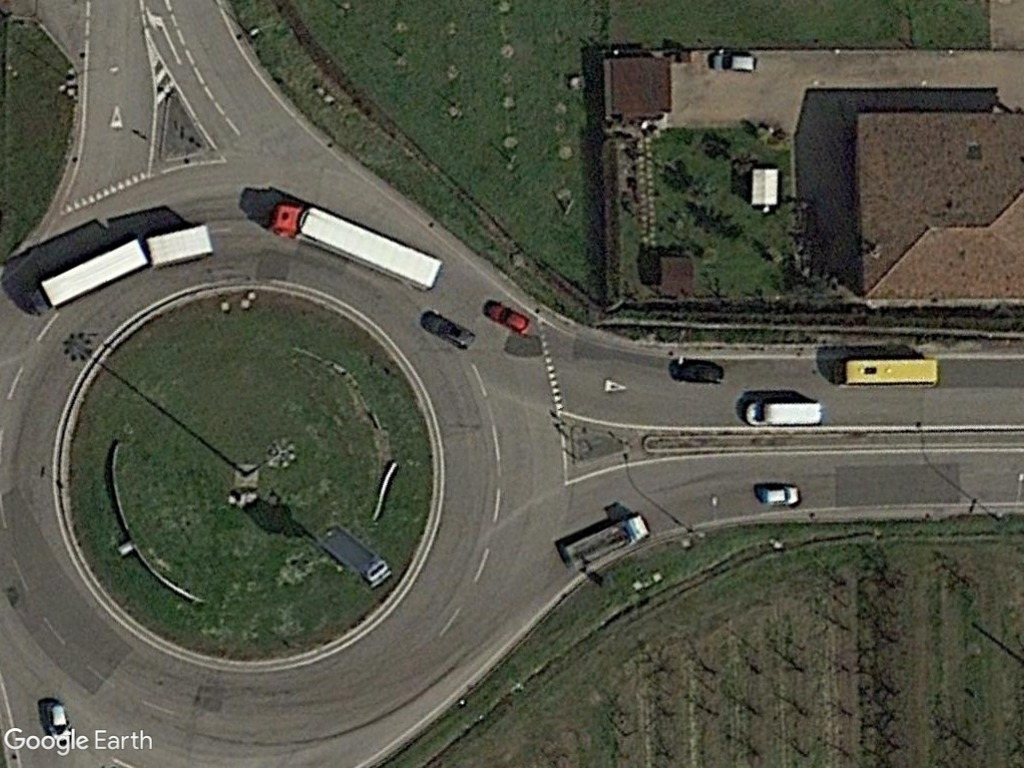bus: (826, 355, 947, 390)
car: (418, 309, 478, 354), (483, 298, 534, 338), (671, 357, 729, 389), (707, 49, 765, 76), (755, 482, 806, 510)
longvehicle: (263, 197, 446, 294), (21, 231, 147, 327), (146, 218, 213, 274)
other: (559, 511, 653, 576)
van: (742, 398, 827, 431)
